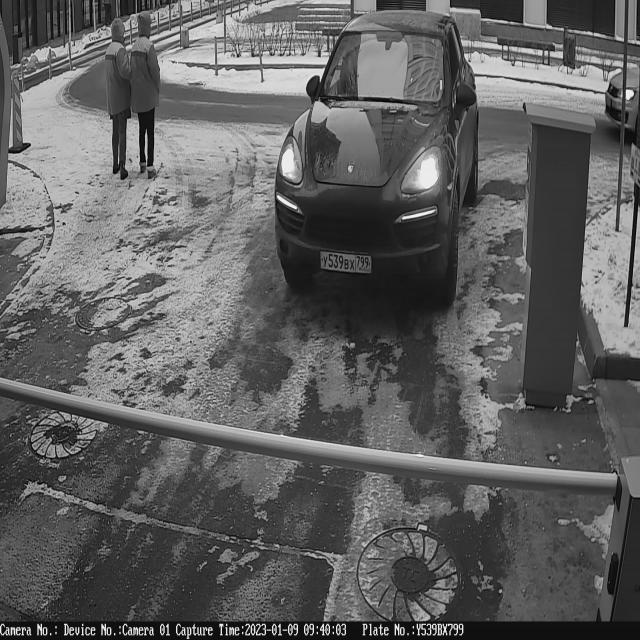car-plate-numbers: (318, 245, 378, 280)
